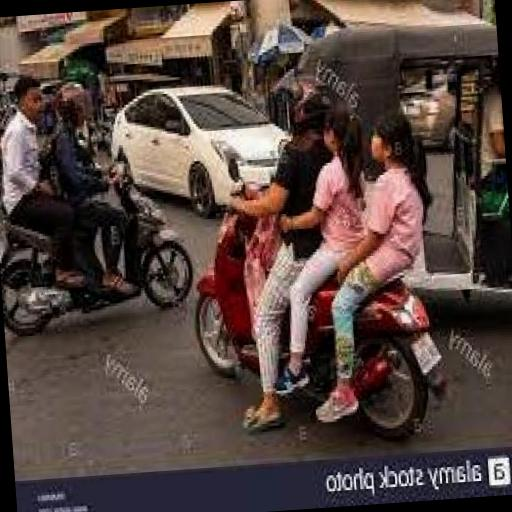helmet: (278, 82, 349, 188), (56, 71, 116, 170)
triple riding: (184, 82, 466, 444)
